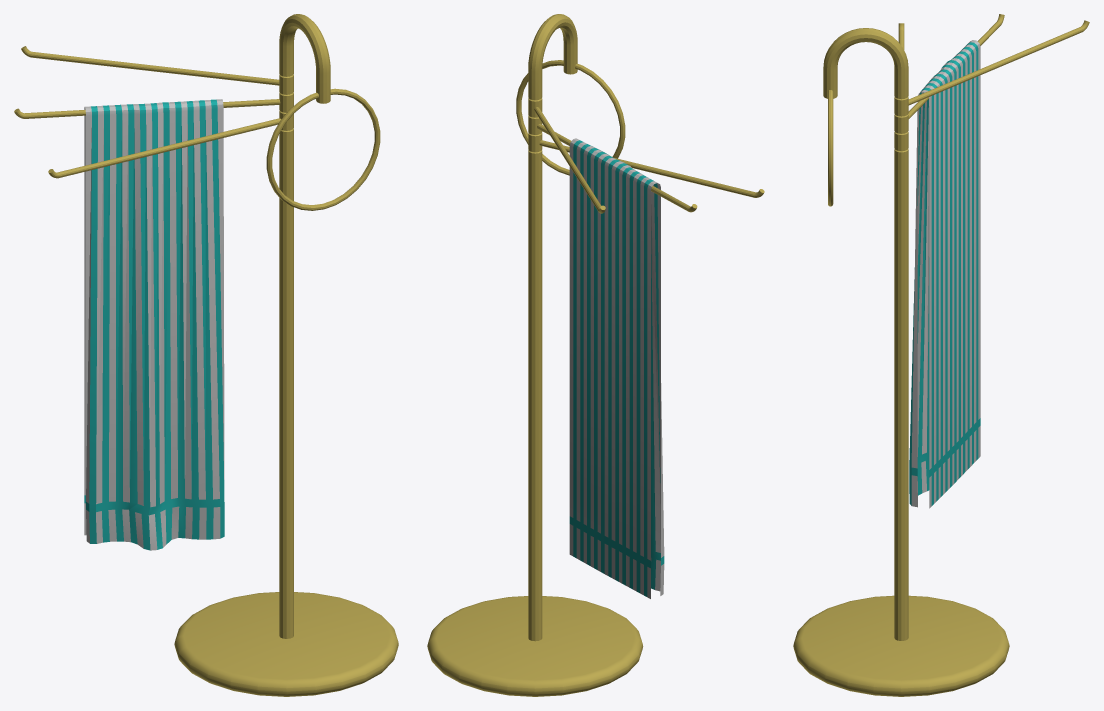
File: appendiabiti.obj
The picture shows the model from 3 angles, left to right: view 1: azimuth 30°, elevation 25°; view 2: azimuth 150°, elevation 25°; view 3: azimuth 270°, elevation 25°; orthographic projection. The views are drawn at different scales.
Parts seen in each view (by area): view 1: _852_01, _852_1_01, _852_2_01; view 2: _852_01, _852_1_01, _852_2_01; view 3: _852_01, _852_1_01, _852_2_01.
Part boxes in pixels (x1,y1,x2,y2): _852_01: [14, 14, 398, 696]; _852_1_01: [84, 99, 224, 550]; _852_2_01: [84, 99, 224, 550]; _852_01: [427, 14, 764, 696]; _852_1_01: [569, 138, 664, 598]; _852_2_01: [569, 140, 664, 596]; _852_01: [793, 14, 1089, 696]; _852_1_01: [911, 40, 980, 508]; _852_2_01: [909, 42, 980, 505].
Size of the model in its own units: 0.526 by 0.973 by 0.4178.
